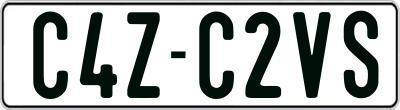2: (245, 9, 283, 100)
4: (77, 10, 117, 96)
C: (196, 10, 231, 101), (32, 11, 67, 98)
S: (341, 9, 380, 100)
V: (291, 11, 330, 99)
Z: (126, 9, 162, 99)
